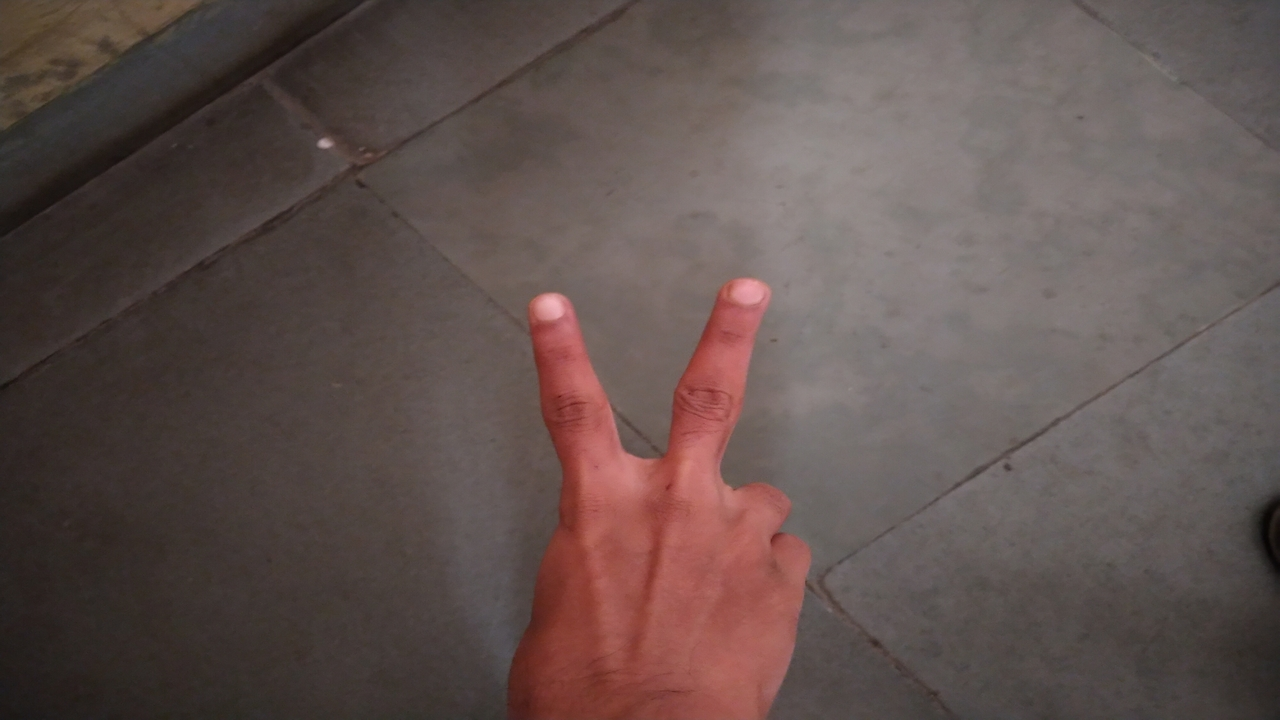fingertip: (704, 268, 778, 326), (524, 282, 582, 342)
